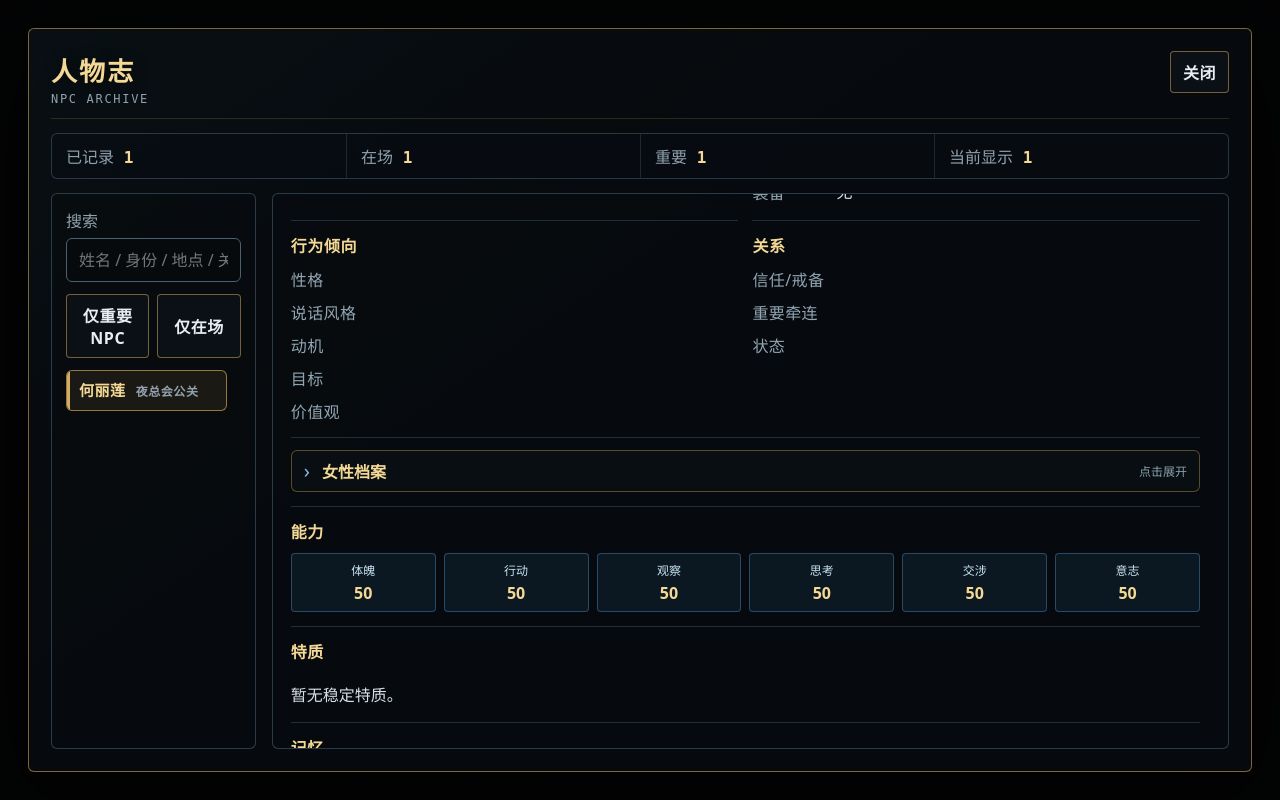
Test: CharacterArchiveModal › renders the female profile as appearance and relationship-drive dossier blocks
The width and height of the screenshot is (1280, 800).
(page scrolled)
Check: the text "外貌档案" is not shown
Click the text "点击展开".
click(1163, 471)  # box [1139,462,1187,480]
(page scrolled)
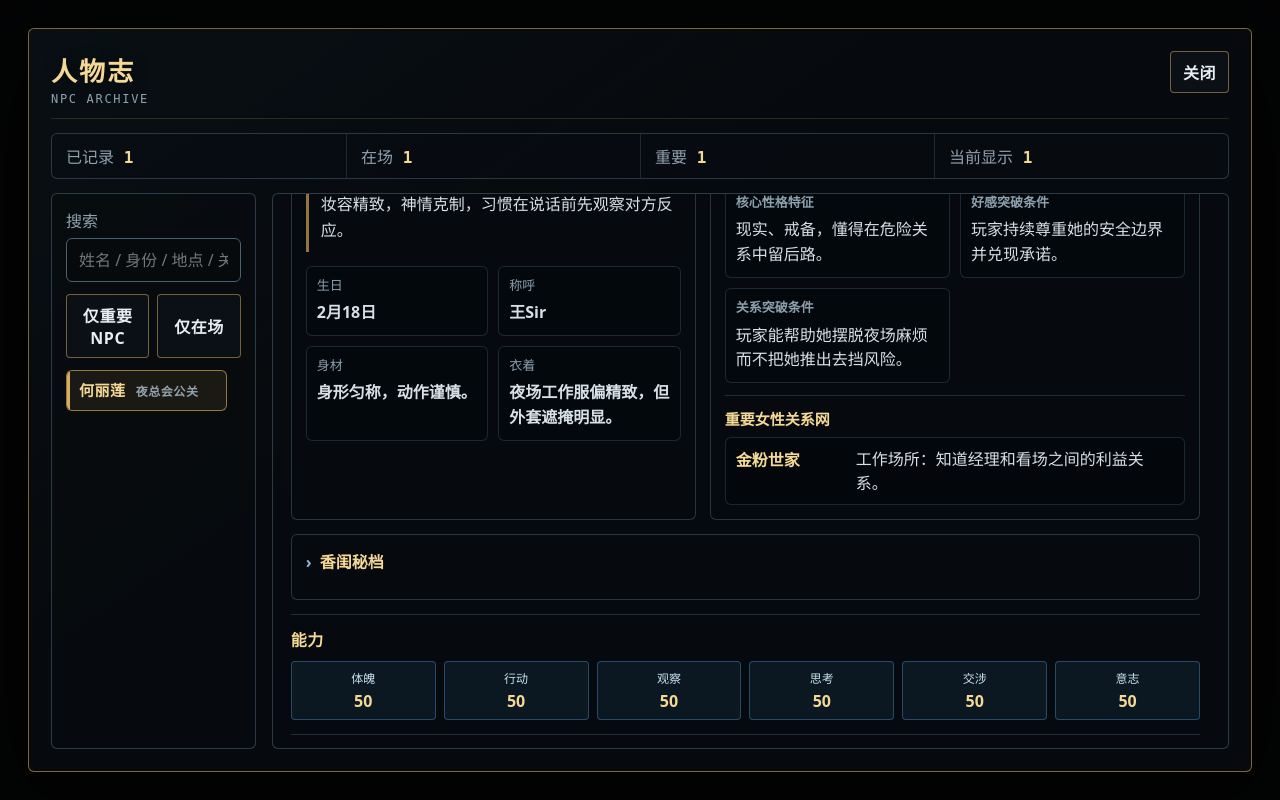
Check: the text "妆容精致，神情克制，习惯在说话前先观察对方反应。" is shown, box [306,193,681,252]
Check: the text "生日" is shown, box [317,276,343,294]
Check: the text "2月18日" is shown, box [317,301,376,323]
